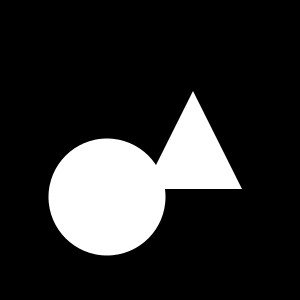rectangle: (49, 138, 166, 255)
triangle: (144, 91, 242, 189)
